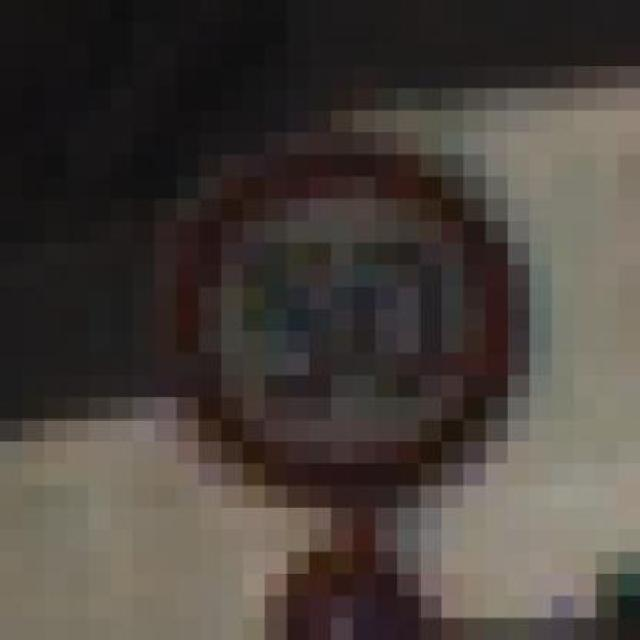50 mph speed limit: (132, 110, 574, 530)
